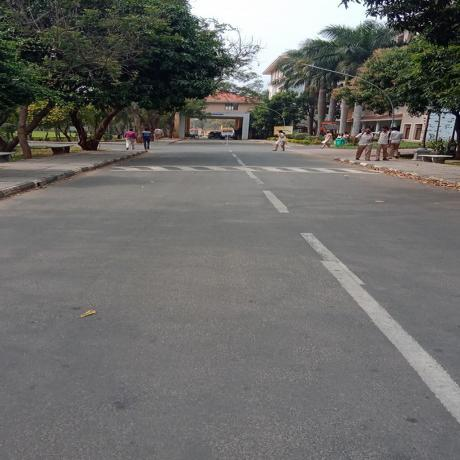Speed Bump: (96, 164, 383, 173)
